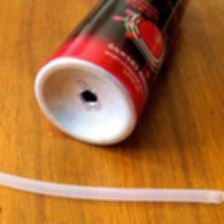aerosol_cans: (28, 0, 200, 150)
